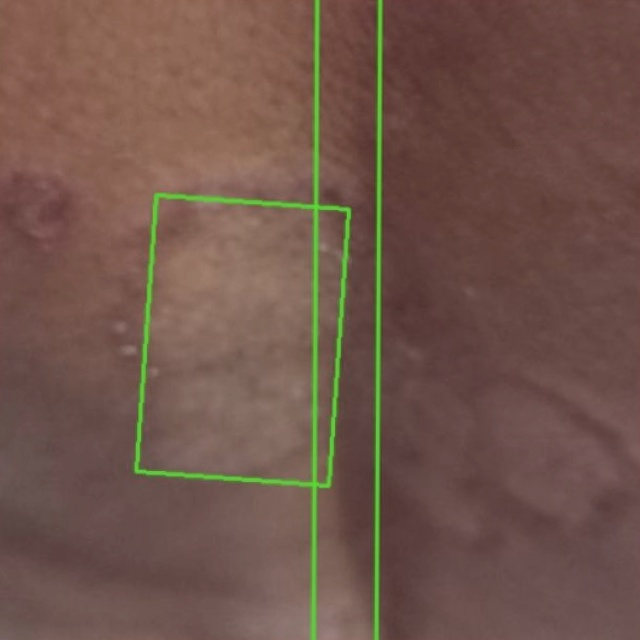Tinea Corporis: (0, 0, 380, 639), (313, 0, 639, 639), (135, 195, 348, 486)
